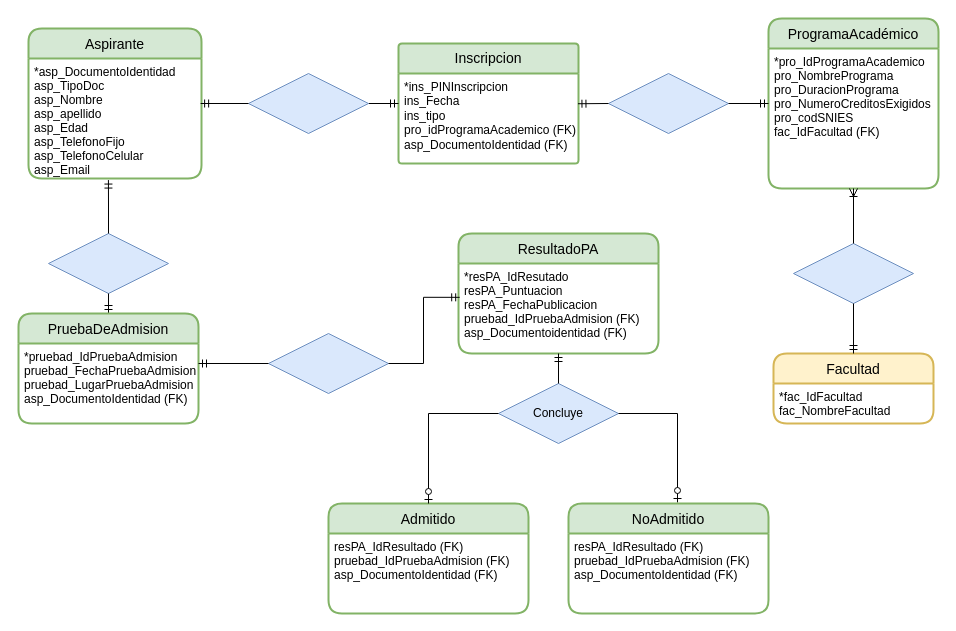
Some shapes in this 956 by 631 pixel diagram are drawn without their labels. The centre of each missing label's shape, as x and y in pixels:
"Pertenece" belongs at (853,273).
"Presenta" belongs at (108,263).
"Realiza" belongs at (308,103).
"Relacionada" belongs at (668,103).
"Tiene" belongs at (328,363).
